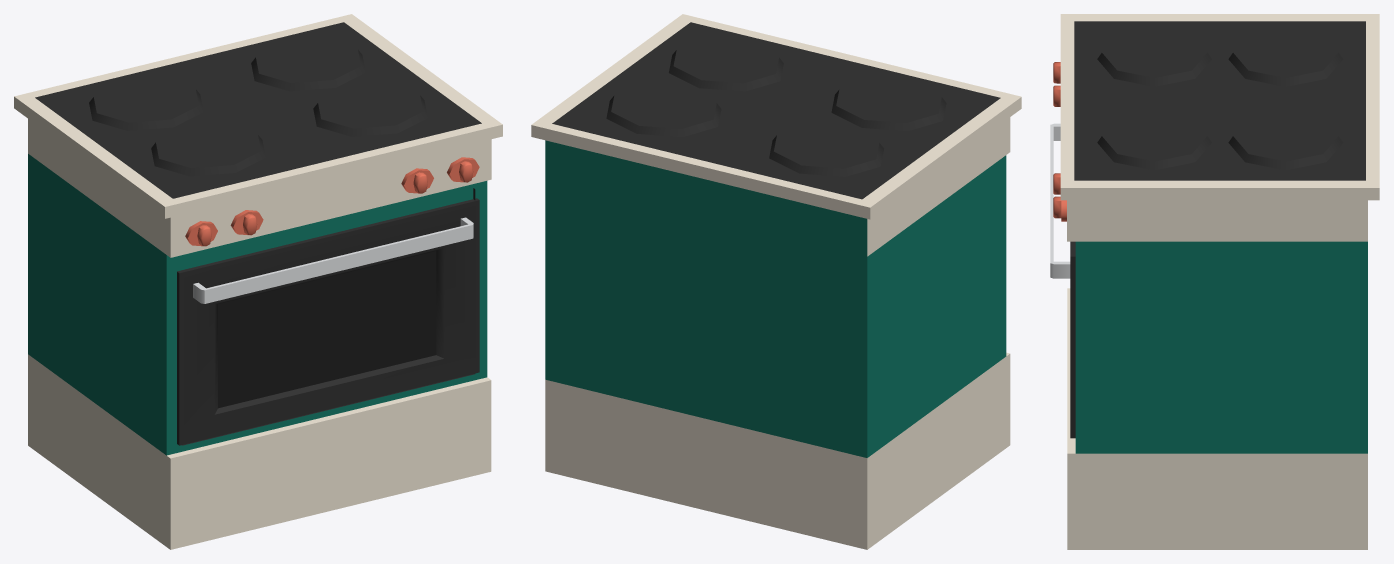
File: stove_a.glb
The picture shows the model from 3 angles, left to right: view 1: azimuth 30°, elevation 25°; view 2: azimuth 150°, elevation 25°; view 3: azimuth 270°, elevation 25°; orthographic projection. The views are drawn at different scales.
Visible parts, largest first — view 1: body, door; view 2: body; view 3: body, door.
Part boxes in pixels (box(x1,y1,x2,y2)): body: box(14, 14, 502, 549); door: box(166, 181, 490, 458); body: box(531, 14, 1021, 549); body: box(1053, 14, 1379, 549); door: box(1050, 123, 1075, 453).
Size of the model in its own units: 0.9 by 0.9 by 0.72.
